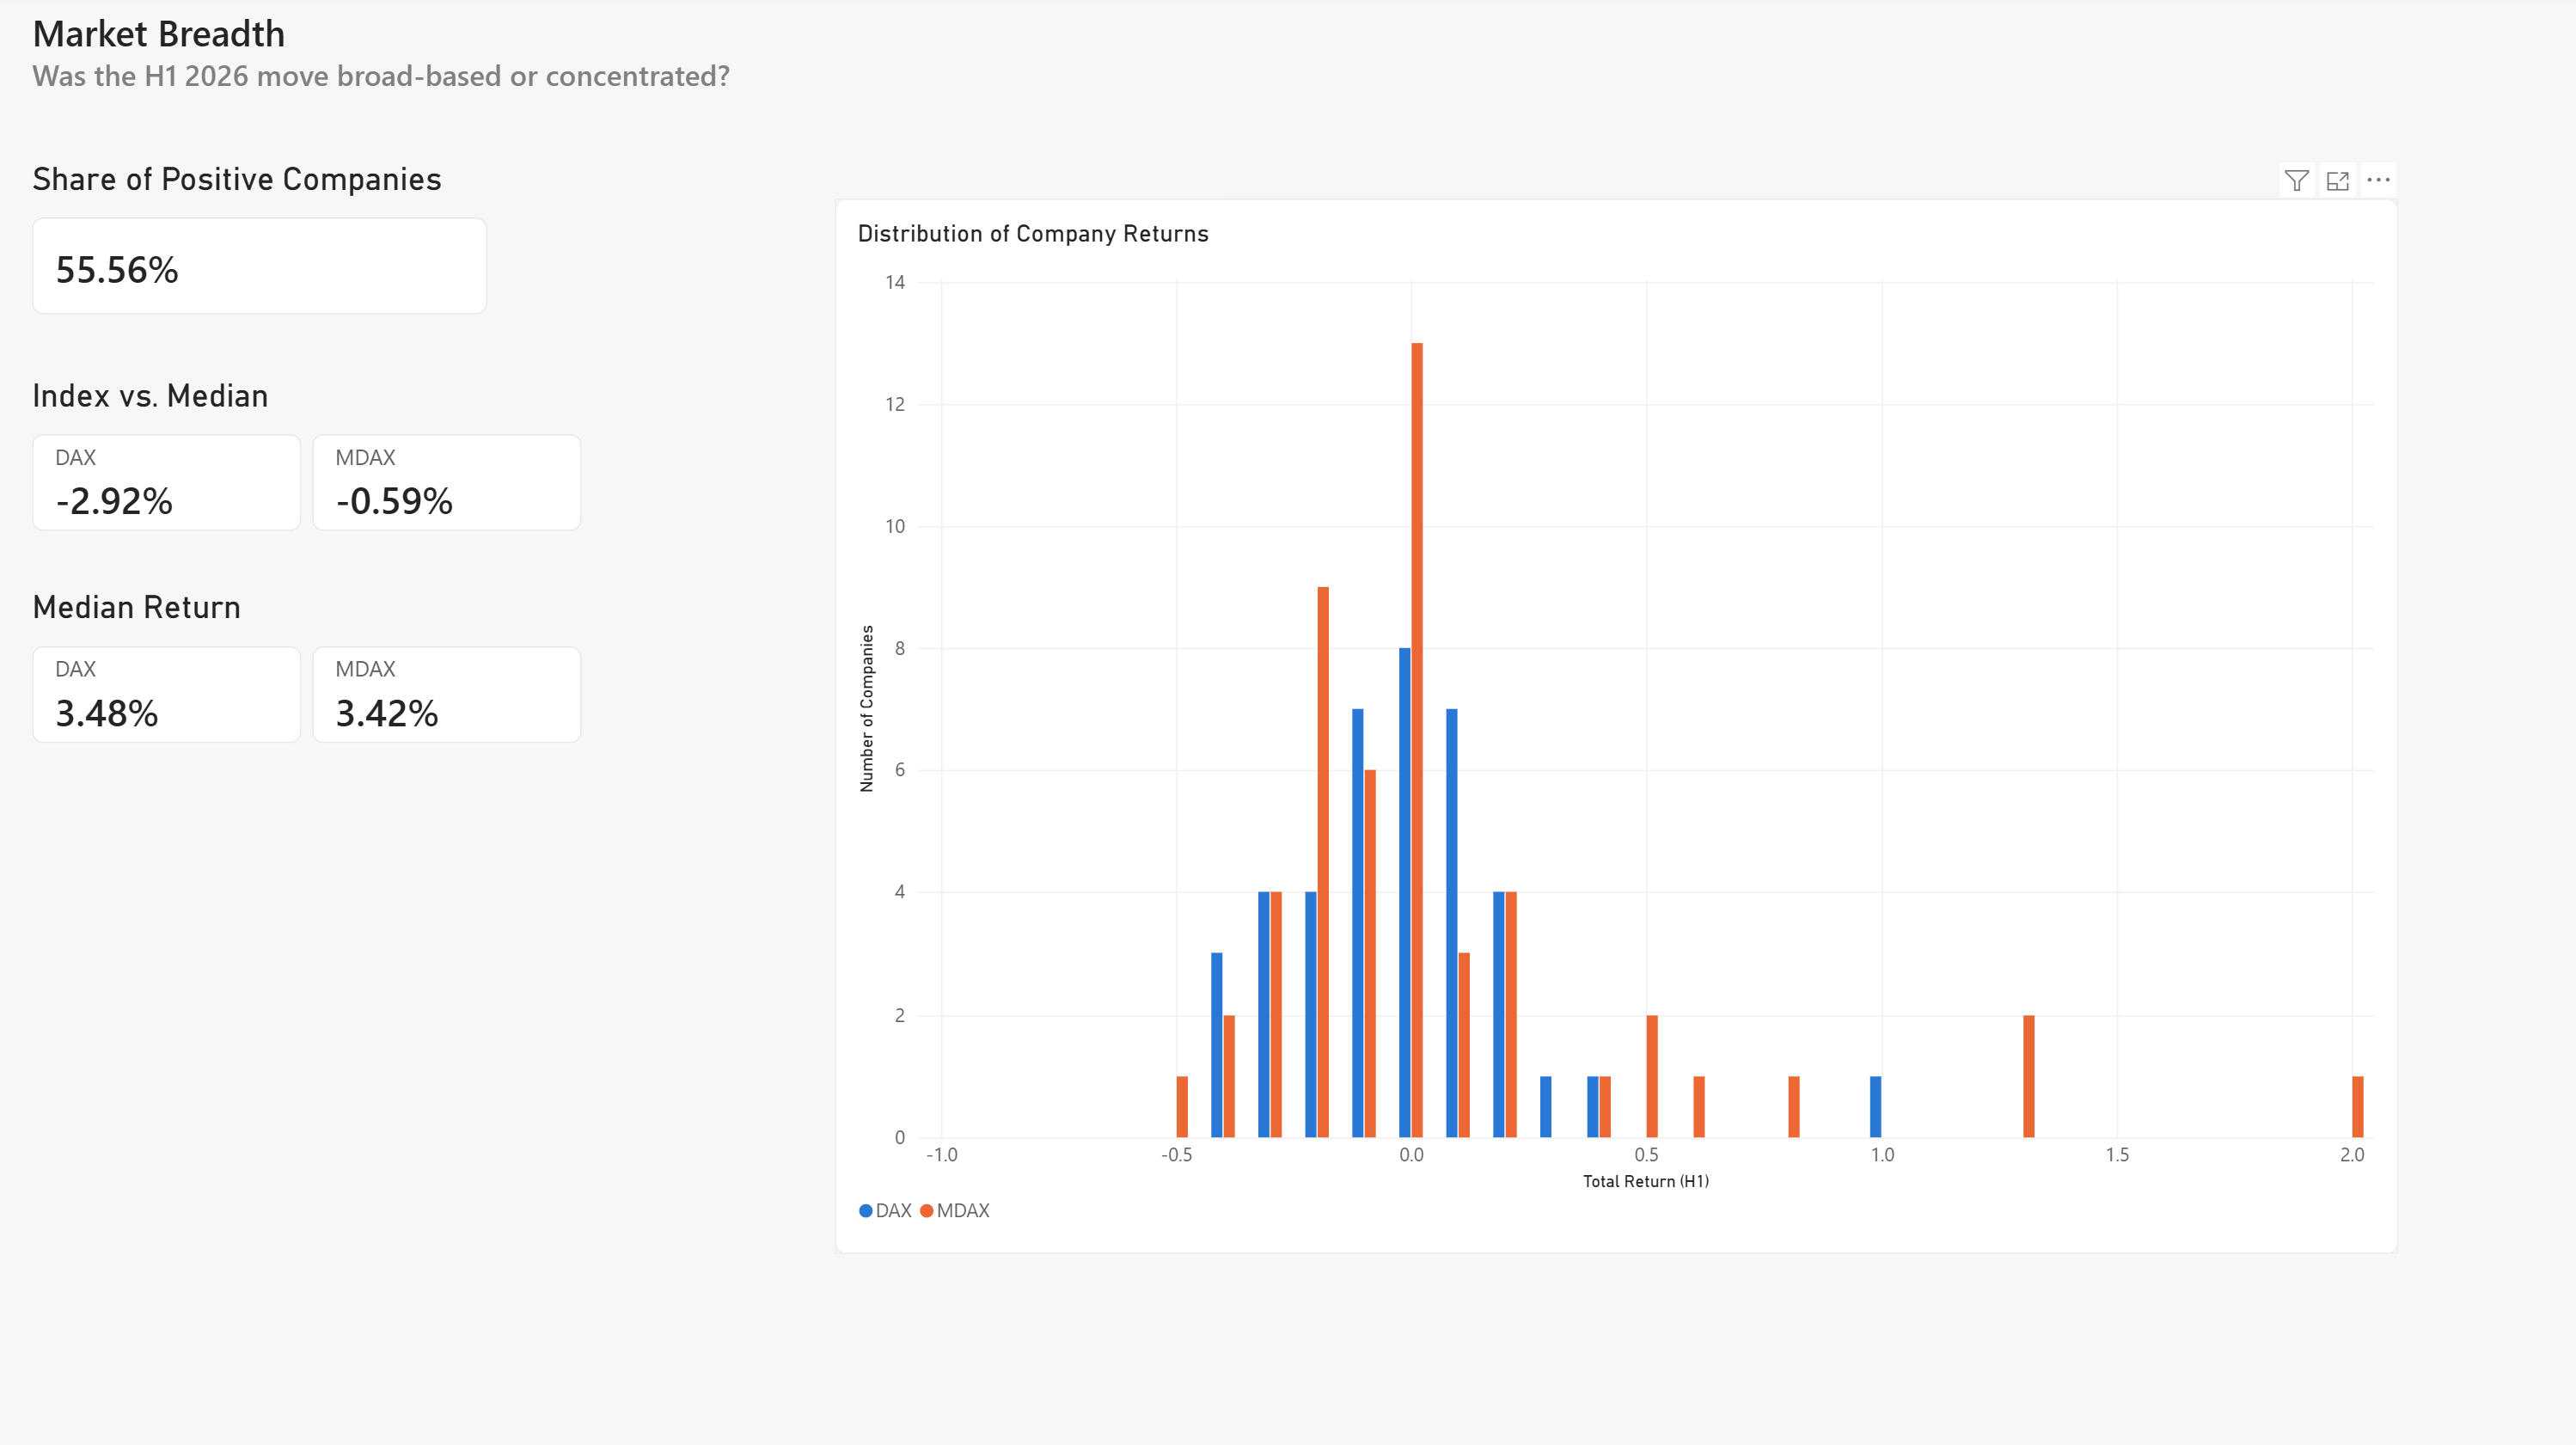

The dashboard page shown, as its layout file describes it:
{"tool":"powerbi","page":{"name":" Market Breadth","canvas":[1920,1080],"ordinal":2},"visuals":[{"type":"textbox","box":[25.7,8.9,536.4,82.3],"z":0},{"type":"cardVisual","title":"Share of Positive Companies","fields":{"Data":["_Mesures.Anteil positive Unternehmen"]},"box":[25.5,122,338.3,115],"z":1000},{"type":"cardVisual","title":"Index vs. Median","fields":{"Data":["_Mesures.Differenz Index minus Median DAX","_Mesures.Differenz Index minus Median MDAX"]},"box":[25.5,282.4,409.8,115],"z":2000},{"type":"cardVisual","title":"Median Return","fields":{"Data":["_Mesures.Medianrendite DAX","_Mesures.Medianrendite MDAX"]},"box":[25.5,439.9,409.8,115],"z":3000},{"type":"clusteredColumnChart","title":"Distribution of Company Returns","fields":{"Category":["Fact_CompanySummary.total_return (bins)"],"Series":["Fact_CompanySummary.index_group"],"Y":["CountNonNull(Fact_CompanySummary.total_return)"]},"box":[621.5,150.4,1159.3,781.8],"z":4000}]}

Visuals, with their boxes in screenshot pixels (x1, y1, x2, y2), scaled from the page's 1920x1080 canvas onto the 2576x1445 screenshot:
textbox: 34/12/754/122
"Share of Positive Companies" cardVisual: 34/163/488/317
"Index vs. Median" cardVisual: 34/378/584/532
"Median Return" cardVisual: 34/589/584/743
"Distribution of Company Returns" clusteredColumnChart: 834/201/2389/1247
